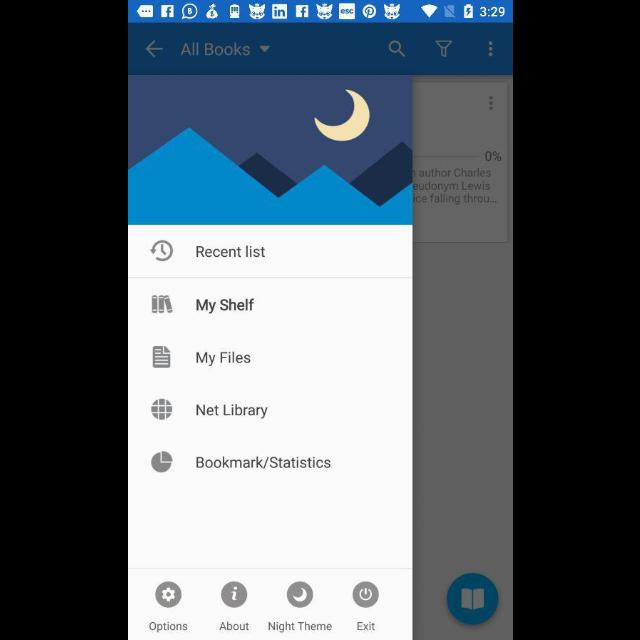button: (446, 572, 498, 626)
icon: (154, 582, 182, 608), (220, 582, 248, 608), (149, 240, 173, 262), (152, 346, 170, 368), (144, 40, 162, 60), (388, 41, 406, 59), (259, 45, 271, 53), (488, 42, 492, 58)
image: (128, 75, 412, 225), (286, 582, 314, 608), (352, 582, 378, 608), (150, 451, 172, 473), (150, 399, 172, 421), (151, 296, 173, 314), (434, 42, 452, 58)
panel: (128, 75, 412, 640)
text: (196, 456, 330, 469), (180, 41, 250, 58), (196, 403, 268, 419), (194, 245, 266, 259), (196, 298, 254, 314), (267, 621, 331, 633), (196, 352, 250, 366), (148, 622, 188, 632), (219, 622, 249, 630), (357, 622, 375, 630)
toolbar: (128, 24, 512, 74)
uppertaskbar: (128, 1, 512, 23)
